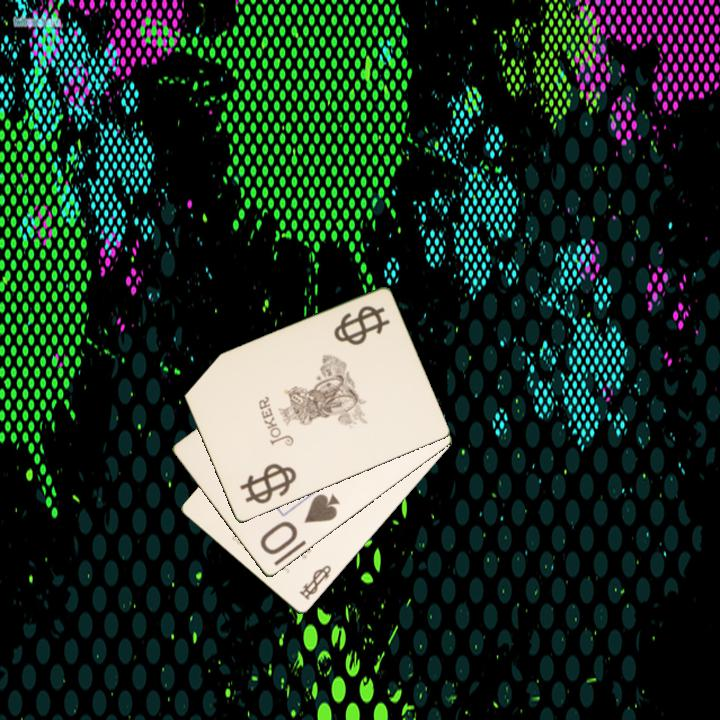10s: (256, 490, 343, 558)
JK: (330, 302, 393, 346), (247, 467, 295, 504), (296, 562, 334, 603)
